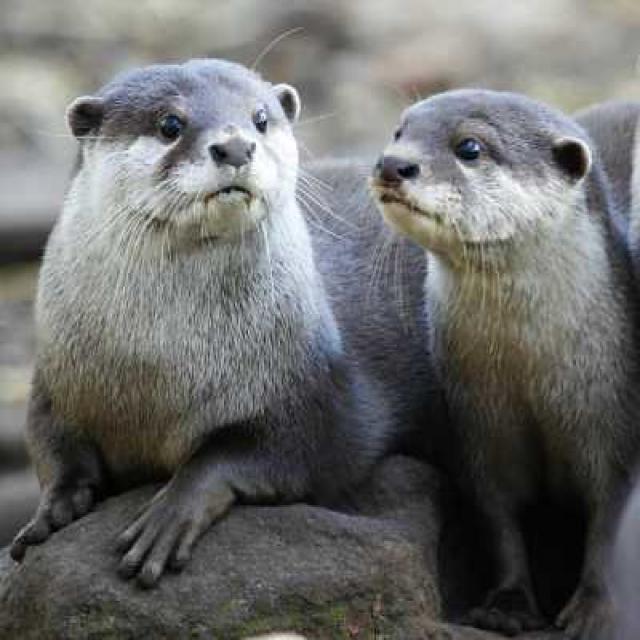otter: (12, 59, 640, 586), (373, 91, 640, 640)
